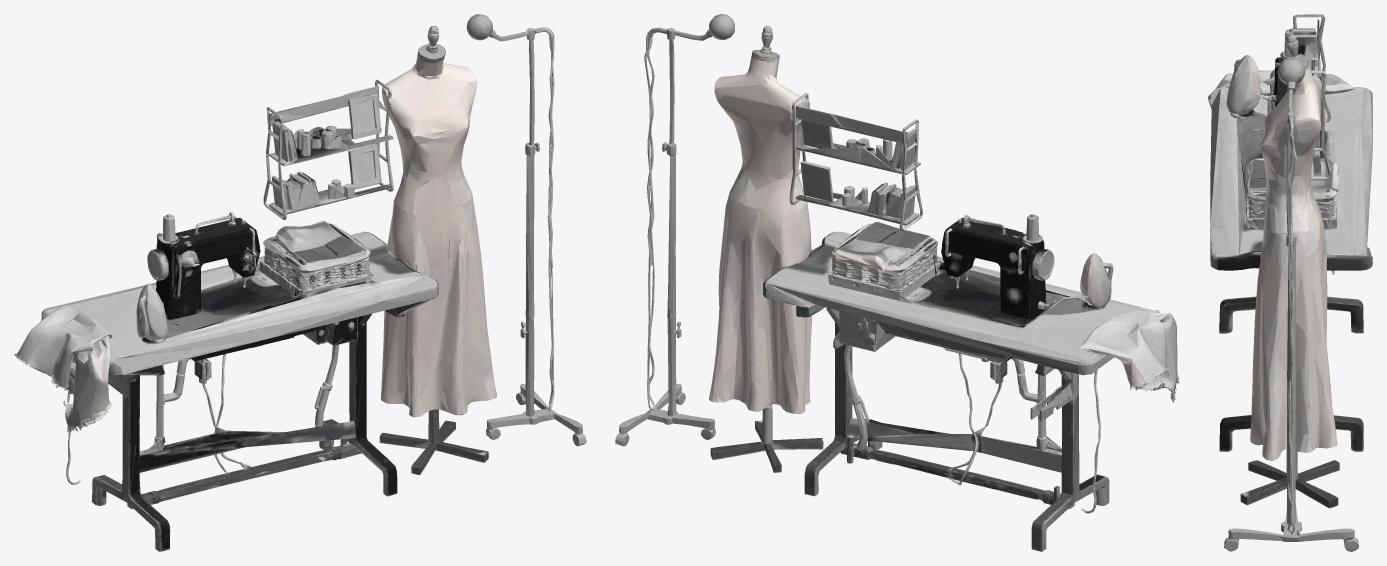
File: bkSewing.glb
3 views of the same model, side by side, from view 1: azimuth 30°, elevation 25°; view 2: azimuth 150°, elevation 25°; view 3: azimuth 270°, elevation 25° (orthographic). The views are drawn at different scales.
Bounding box in the file's own units: 1.89 × 1.46 × 0.4814.
1 material, 1 textured.
